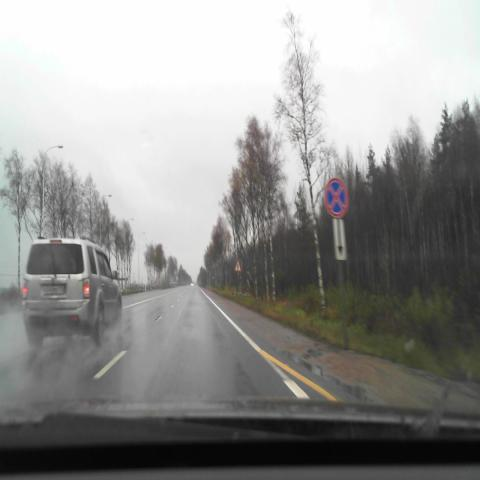8_2_3: (332, 219, 348, 260)
